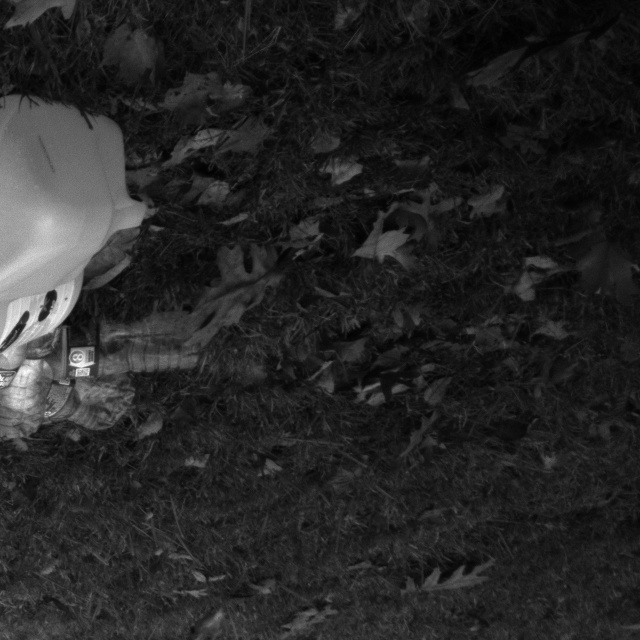bottle: (11, 309, 202, 390)
can: (0, 95, 141, 304), (0, 254, 83, 396)
